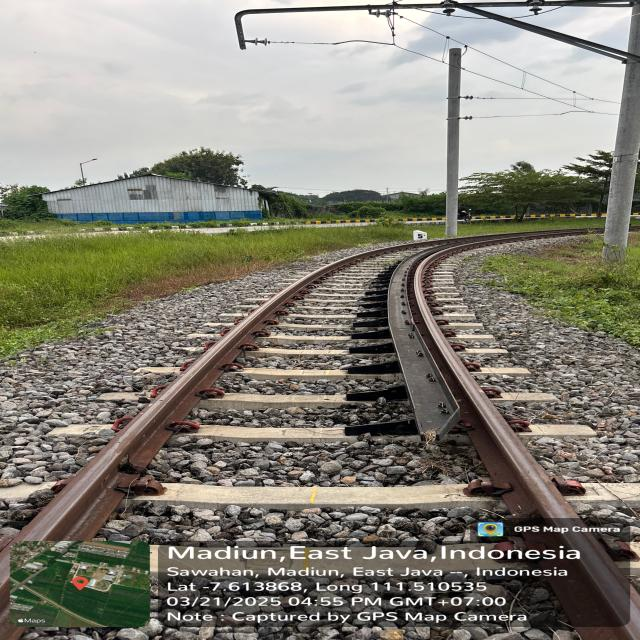rail-detection: (27, 231, 640, 640), (16, 251, 372, 541), (160, 259, 350, 402)
